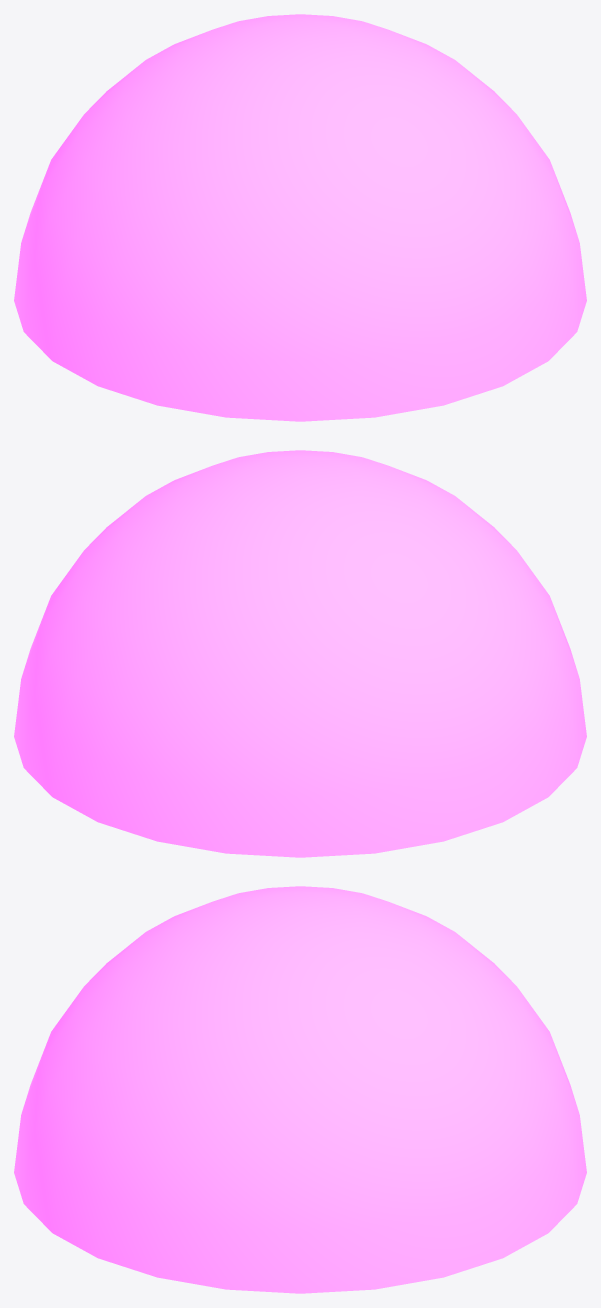
Rendered from generador_escudo_t5.fbx.
The picture shows the model from 3 angles, top to bottom: view 1: azimuth 30°, elevation 25°; view 2: azimuth 150°, elevation 25°; view 3: azimuth 270°, elevation 25°; orthographic projection.
Parts seen in each view (by area): view 1: generador_escudo_t5_domo; view 2: generador_escudo_t5_domo; view 3: generador_escudo_t5_domo.
Part boxes in pixels (bbox=[...]): generador_escudo_t5_domo: bbox=[14, 14, 586, 421]; generador_escudo_t5_domo: bbox=[14, 450, 586, 857]; generador_escudo_t5_domo: bbox=[14, 886, 586, 1293].
Size of the model in its own units: 8.4 by 4.55 by 8.4.
